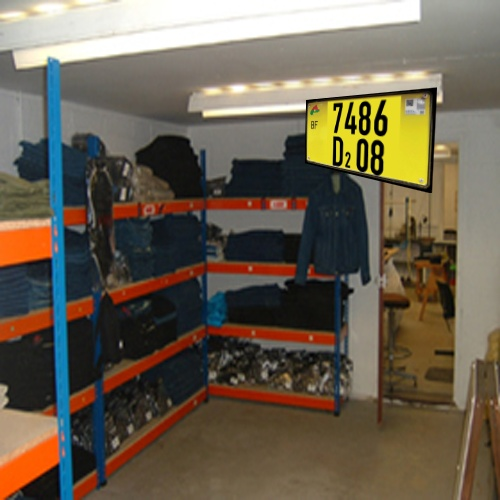plate: (300, 80, 445, 202)
